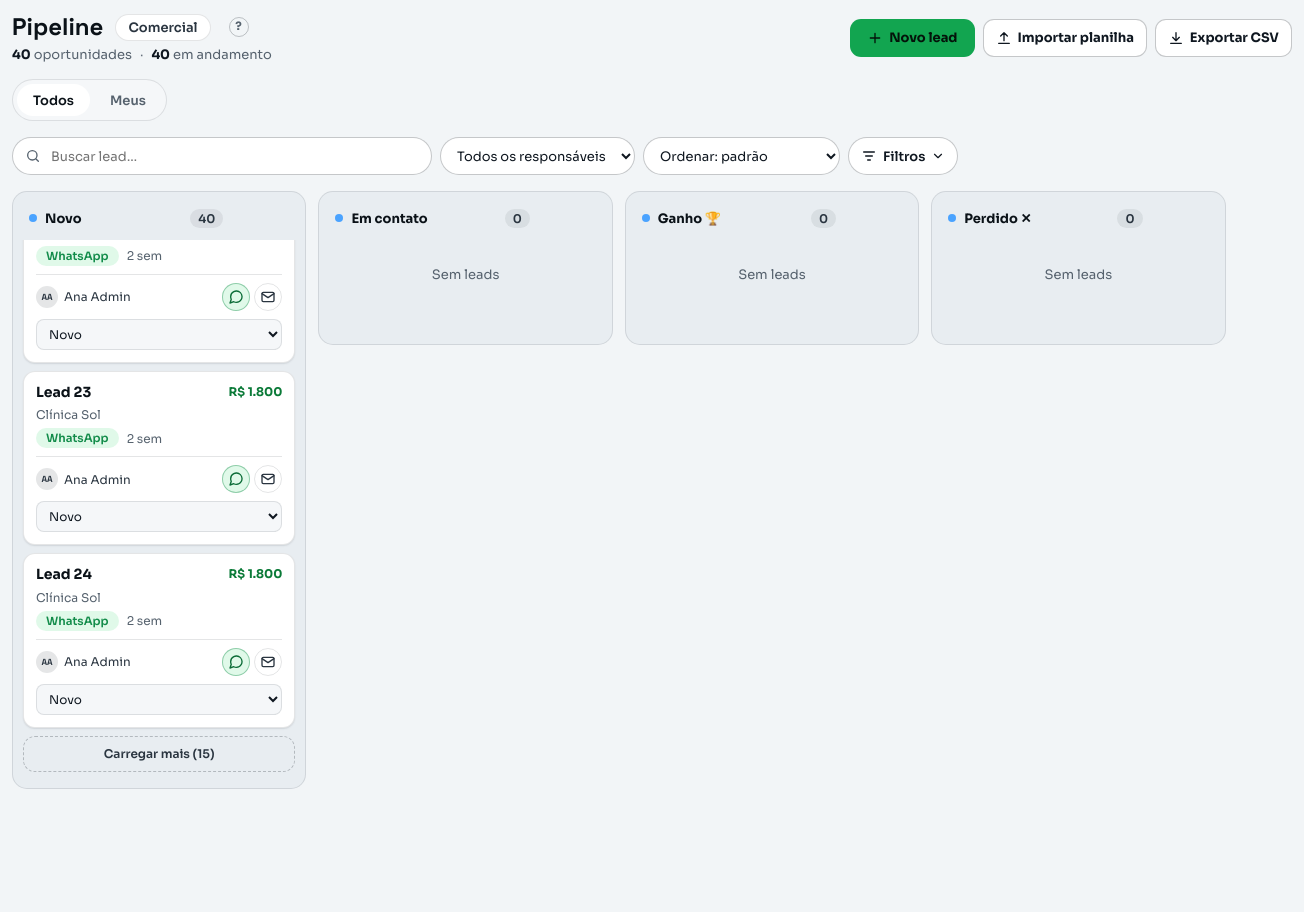
Scenario: F-01 paginação por coluna › carregar mais acrescenta a página 2 e o botão some no fim
(page scrolled)
Click the button "Carregar mais (15)".
click(159, 754)  # box [23,736,295,772]
(page scrolled)
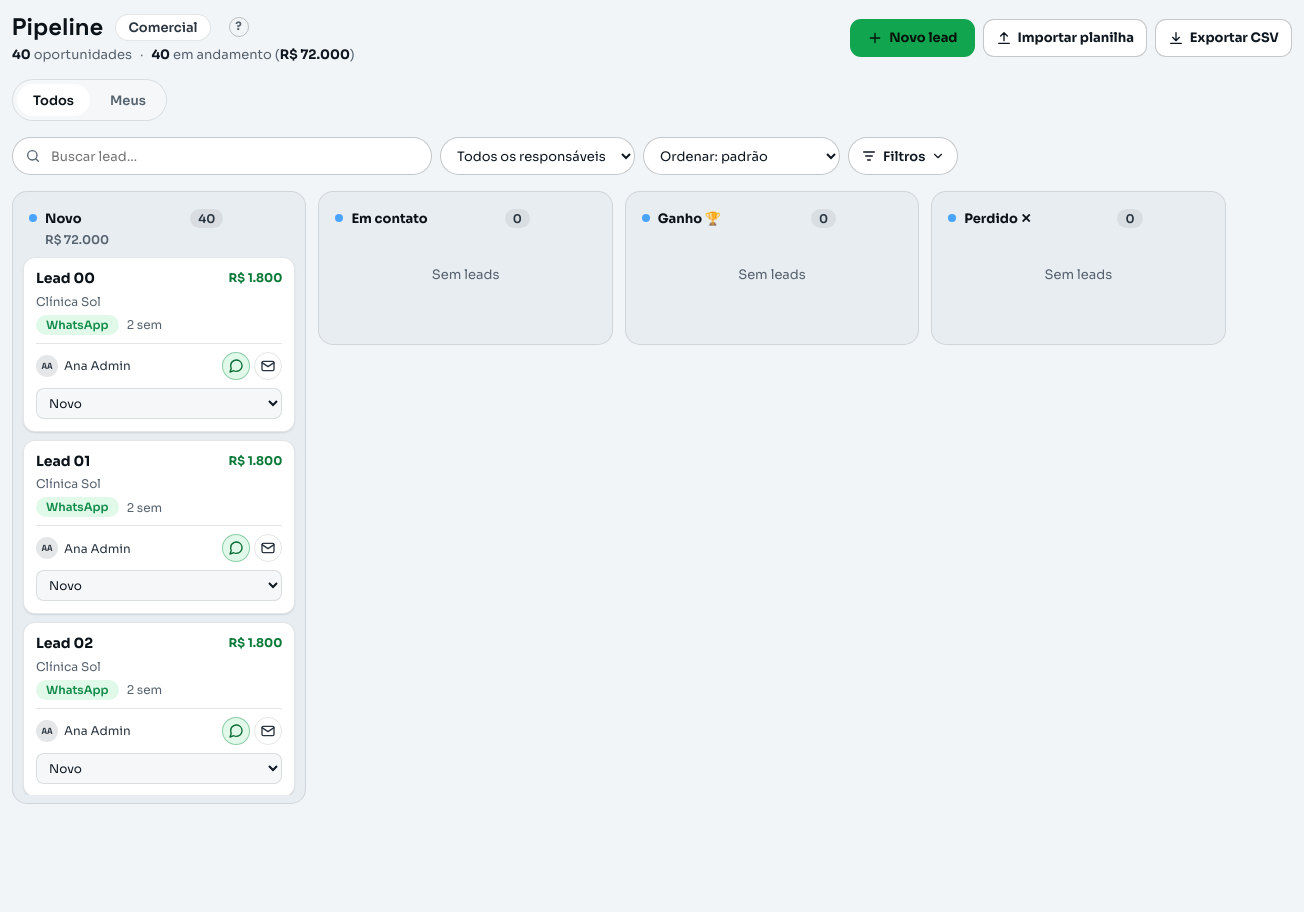
Check: the text "Lead 00" is shown, box [36,270,95,288]
Check: the button "Carregar mais" is gone
